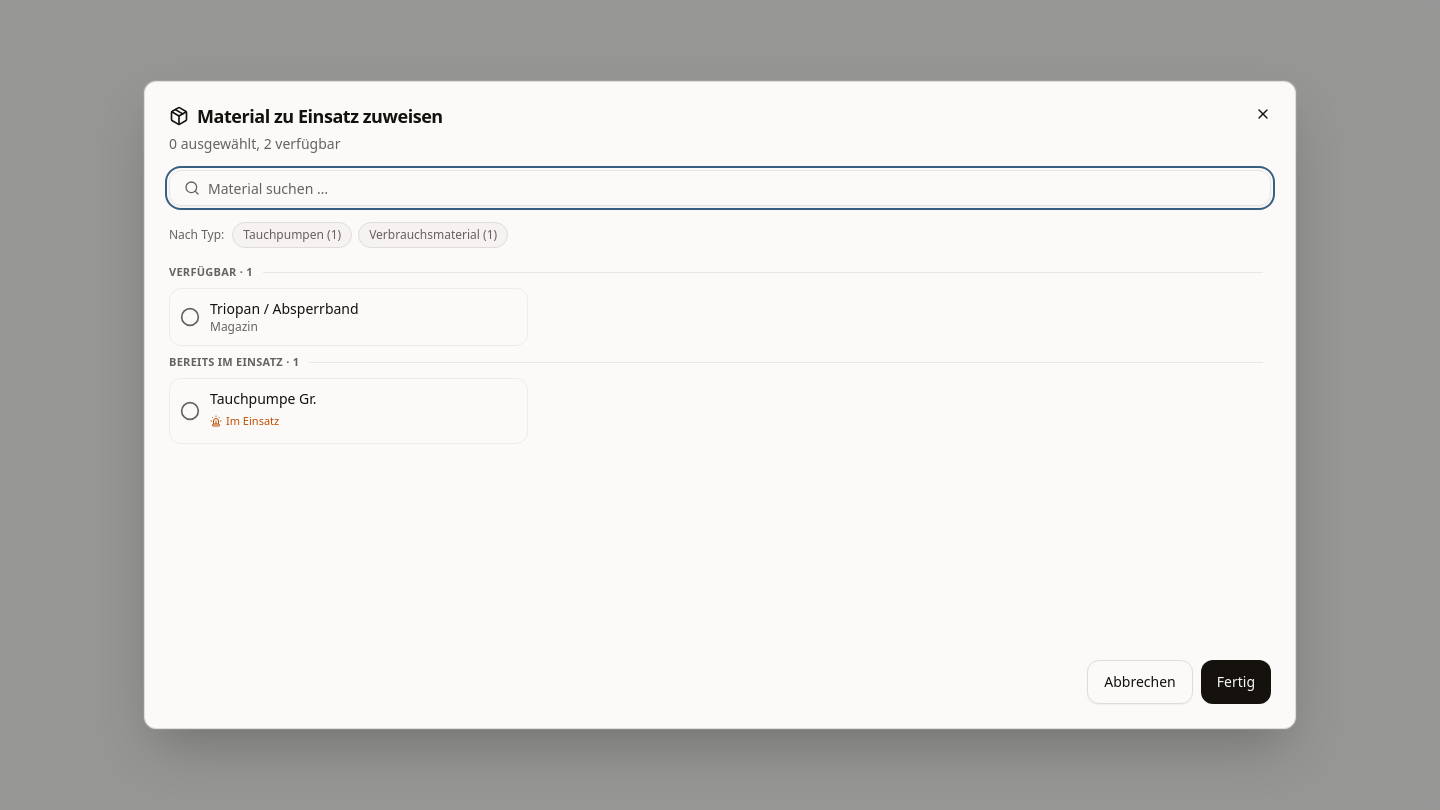
Test: material double-booking guard › asks before a limited material is taken off another incident
Click the button "Tauchpumpe Gr. Im Einsatz" at coordinates (263, 398), box [169,378,528,444]
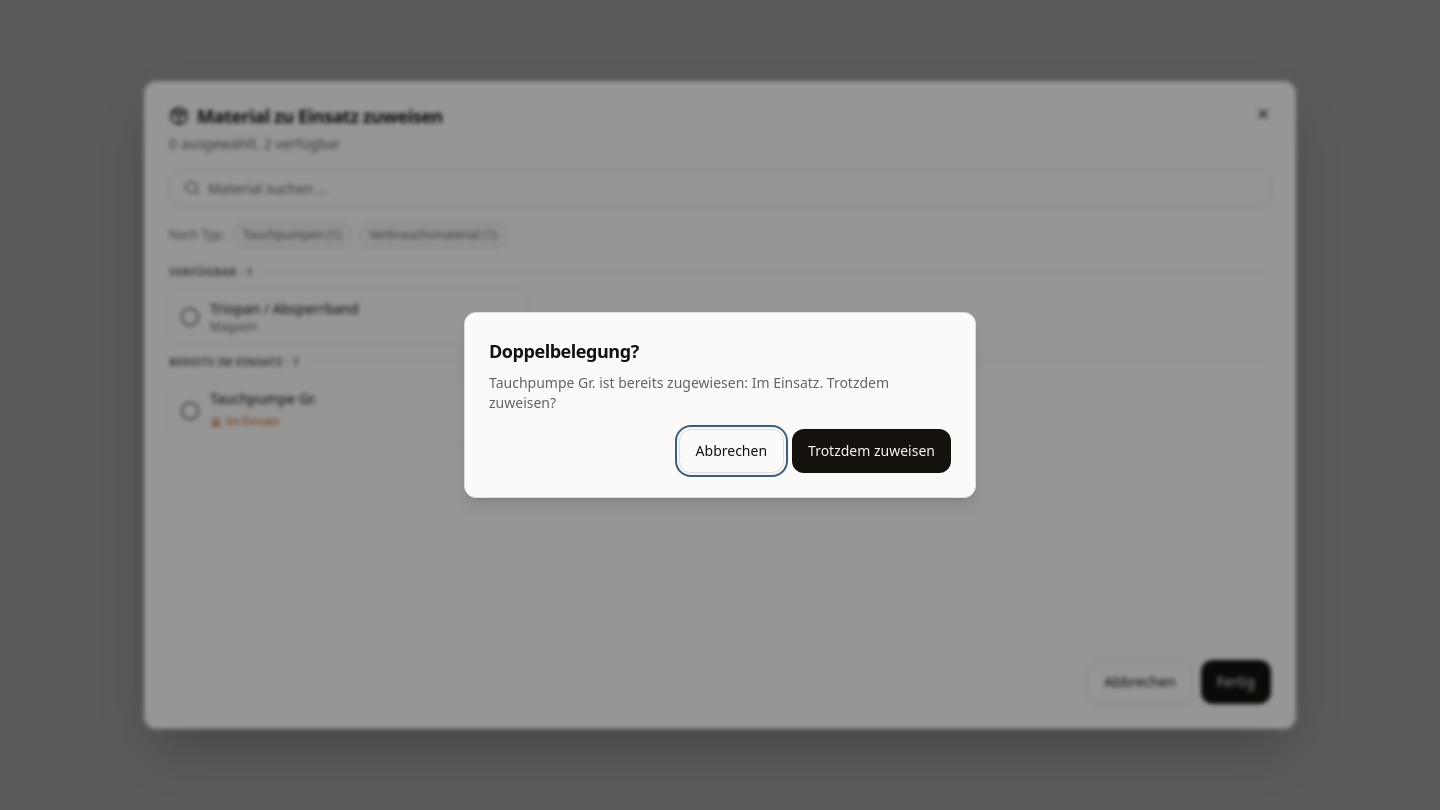
Check: the heading "Doppelbelegung?" is shown, box [489,339,639,363]
